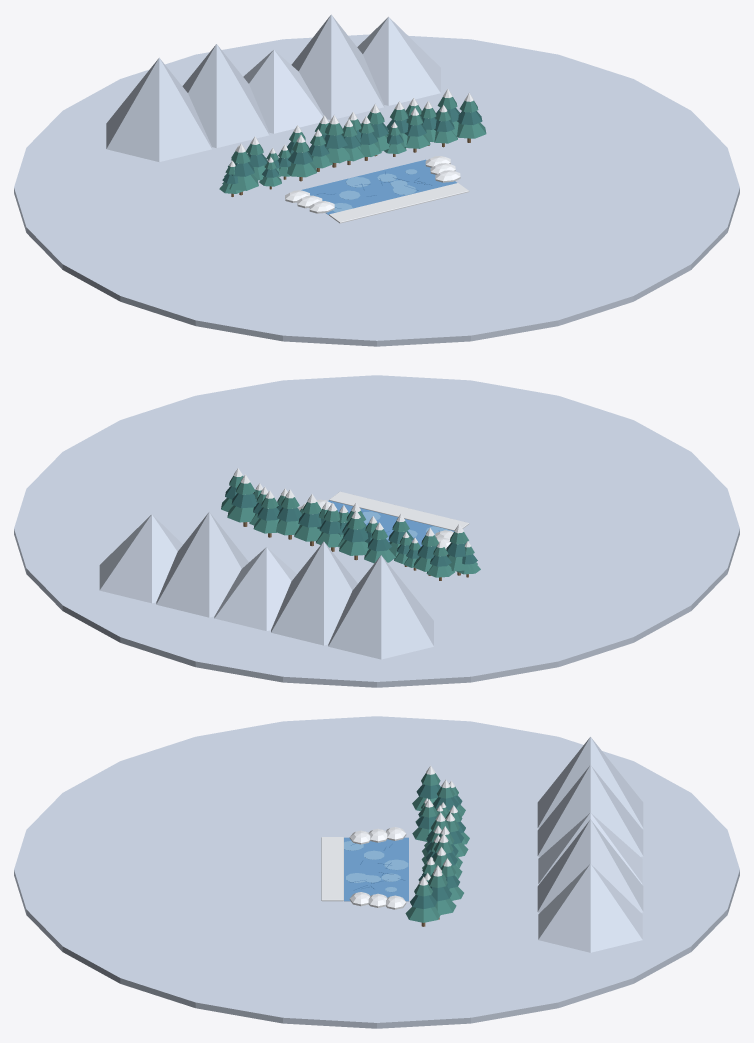
Rendered from frozen_lake.glb.
3 views of the same model, one above another, from view 1: azimuth 30°, elevation 25°; view 2: azimuth 150°, elevation 25°; view 3: azimuth 270°, elevation 25° (orthographic).
Parts seen in each view (by area): view 1: ground, mountain0, mountain3, mountain1, mountain4, mountain2, ice, shore; view 2: ground, mountain0, mountain3, mountain1, mountain4, mountain2, shore, ice; view 3: ground, mountain4, mountain1, mountain3, mountain0, ice, mountain2, shore.
Boxes of the visible parts, box(x1,y1,x2,y2) form: ground: box(14, 34, 739, 346); mountain0: box(106, 57, 211, 161); mountain3: box(291, 14, 384, 119); mountain1: box(182, 44, 269, 147); mountain4: box(357, 17, 440, 105); mountain2: box(243, 50, 323, 133); ice: box(301, 159, 456, 214); shore: box(329, 183, 469, 223); ground: box(14, 375, 739, 687); mountain0: box(328, 555, 433, 659); mountain3: box(156, 512, 248, 617); mountain1: box(271, 541, 357, 645); mountain4: box(99, 514, 182, 603); mountain2: box(214, 547, 296, 631); shore: box(329, 491, 469, 530); ice: box(328, 500, 454, 546); ground: box(14, 716, 739, 1028); mountain4: box(538, 864, 642, 952); mountain1: box(537, 765, 643, 856); mountain3: box(537, 819, 643, 912); mountain0: box(537, 737, 643, 828); ice: box(344, 837, 408, 901); mountain2: box(538, 813, 642, 883); shore: box(321, 837, 343, 901).
Size of the model in its own units: 68 by 8.88 by 68.
